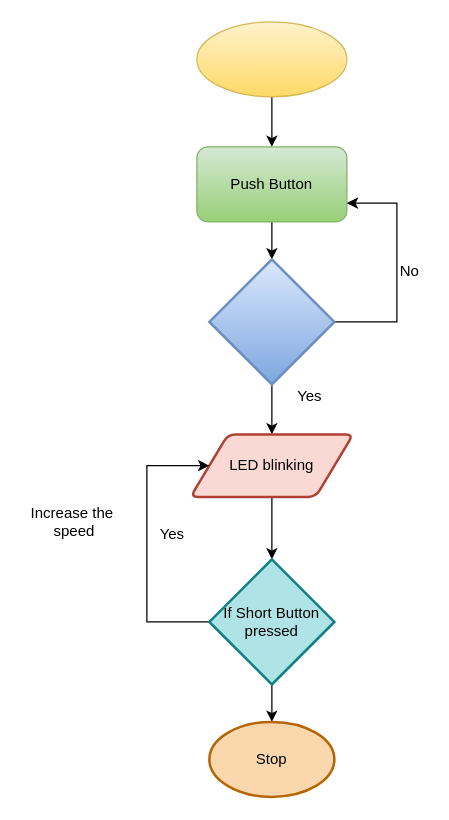
This 449x820 diagram has some shape labels left out. The centre of each missing label's shape, as x and y in pixels:
If ignition on: (x=271, y=321)
Start: (x=271, y=59)
